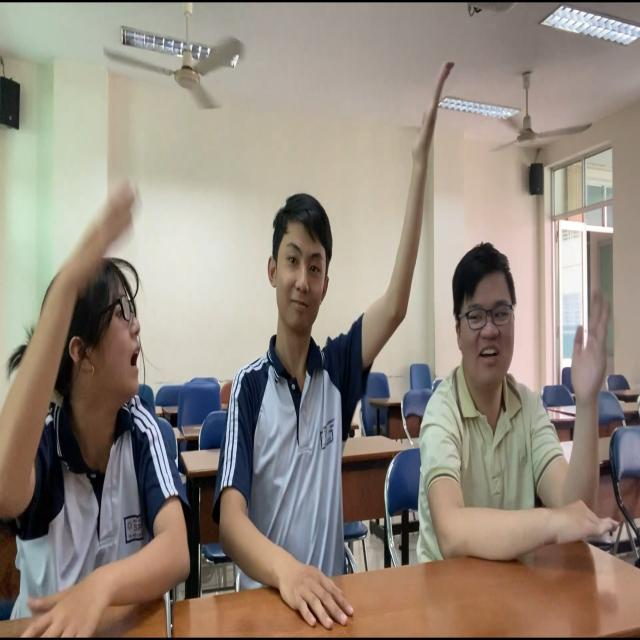raise_hand: (1, 171, 205, 640), (433, 234, 618, 581)
